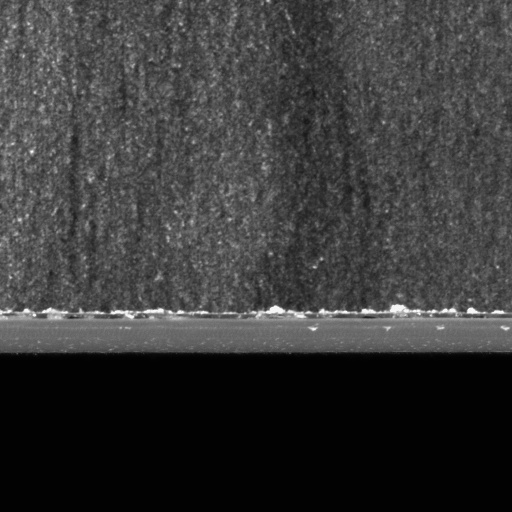jiaofeng: (0, 310, 511, 330)
